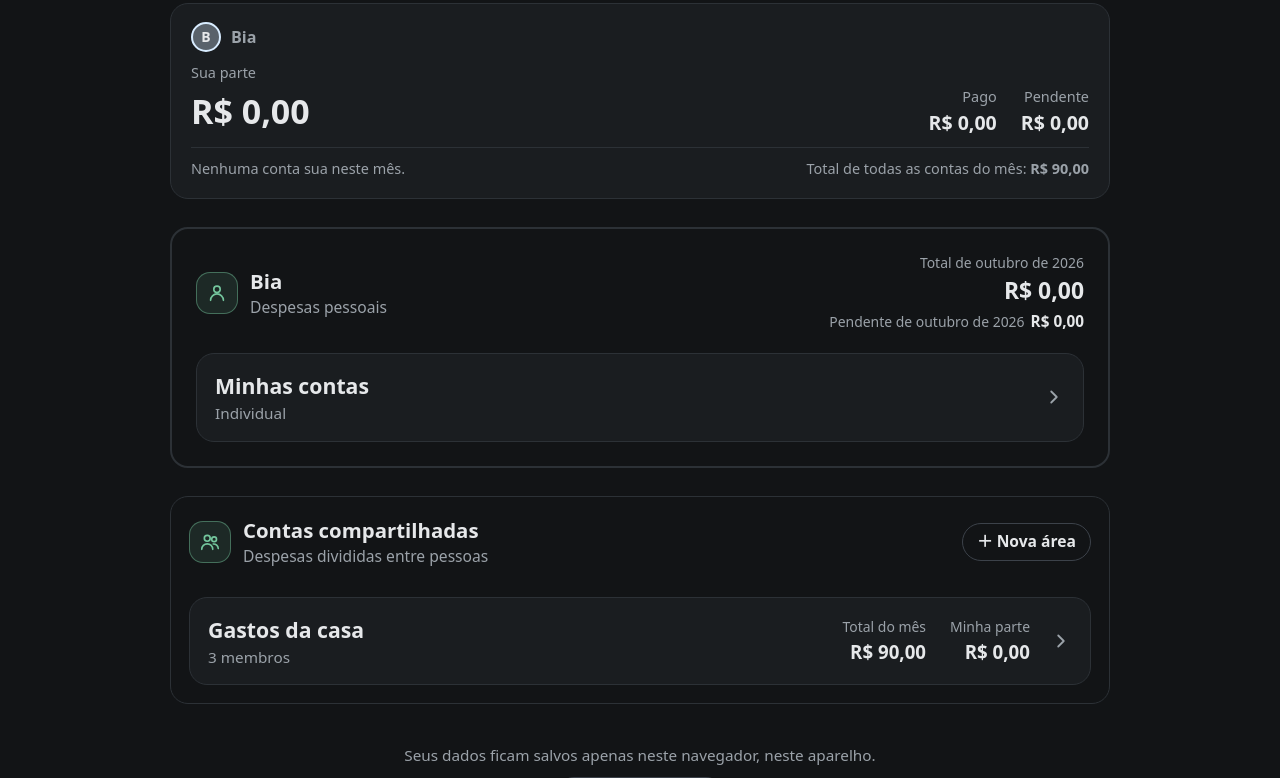
Test case: M6: base da nova versão em "esta e as seguintes" › conta escolhida paga e marcada: a confirmação diz que ela continua igual
The image size is (1280, 778).
Step 1. Click the button "Minhas contas Individual" → (292, 385), box left=197, top=354, right=1083, bottom=441
(page scrolled)
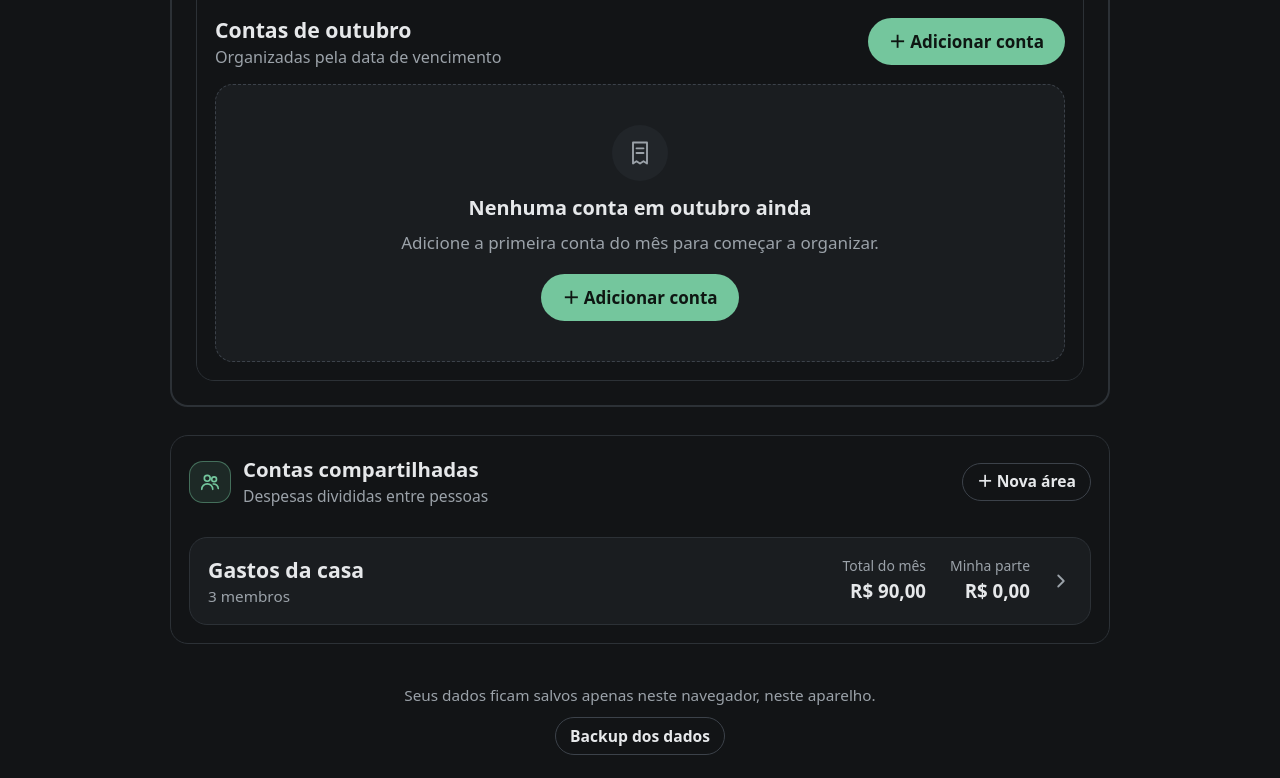
Step 2. Click the button that starts with "Gastos da casa" → (286, 569), box left=190, top=538, right=1090, bottom=624
(page scrolled)
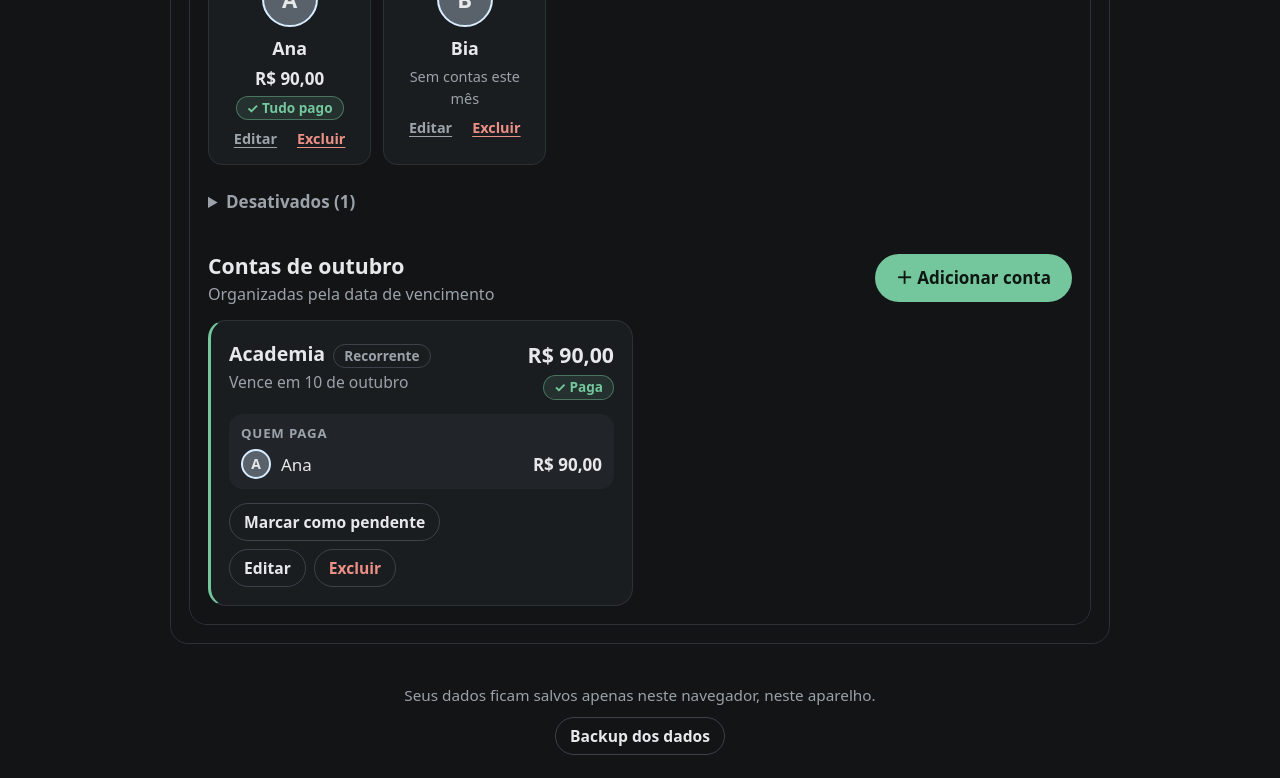
Step 3. Click the button with aria-label "Editar a conta Academia" → (267, 568), box left=229, top=549, right=306, bottom=587
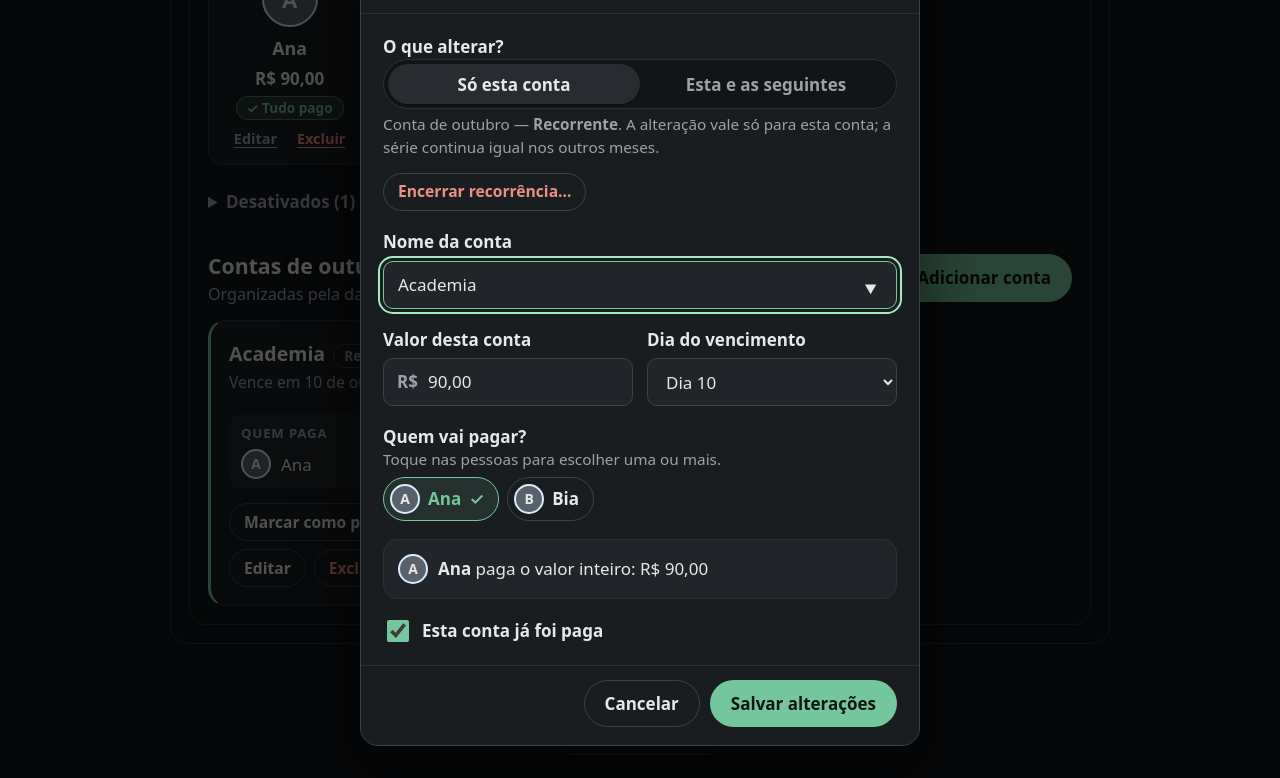
Step 4. Click the button "Esta e as seguintes" → (766, 84), box left=640, top=64, right=892, bottom=104
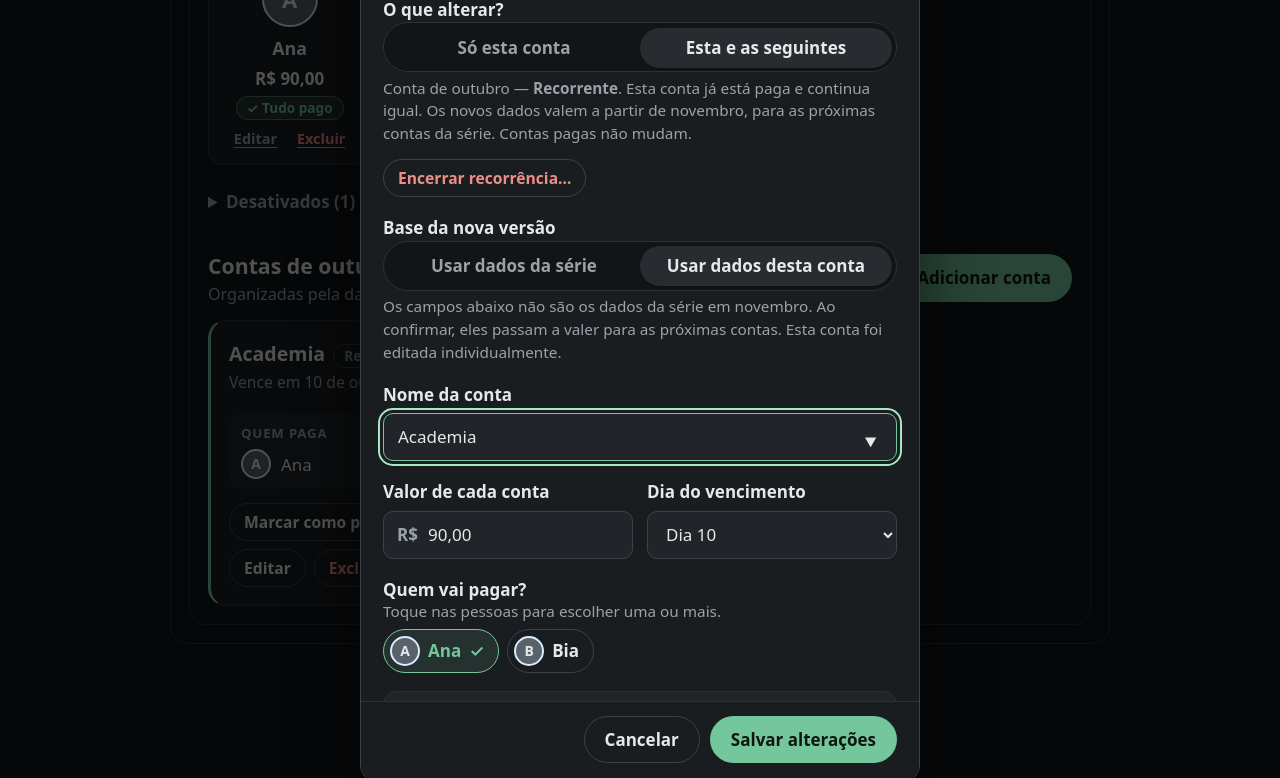
Step 5. Click the button "Salvar alterações" → (803, 740), box left=710, top=716, right=897, bottom=764
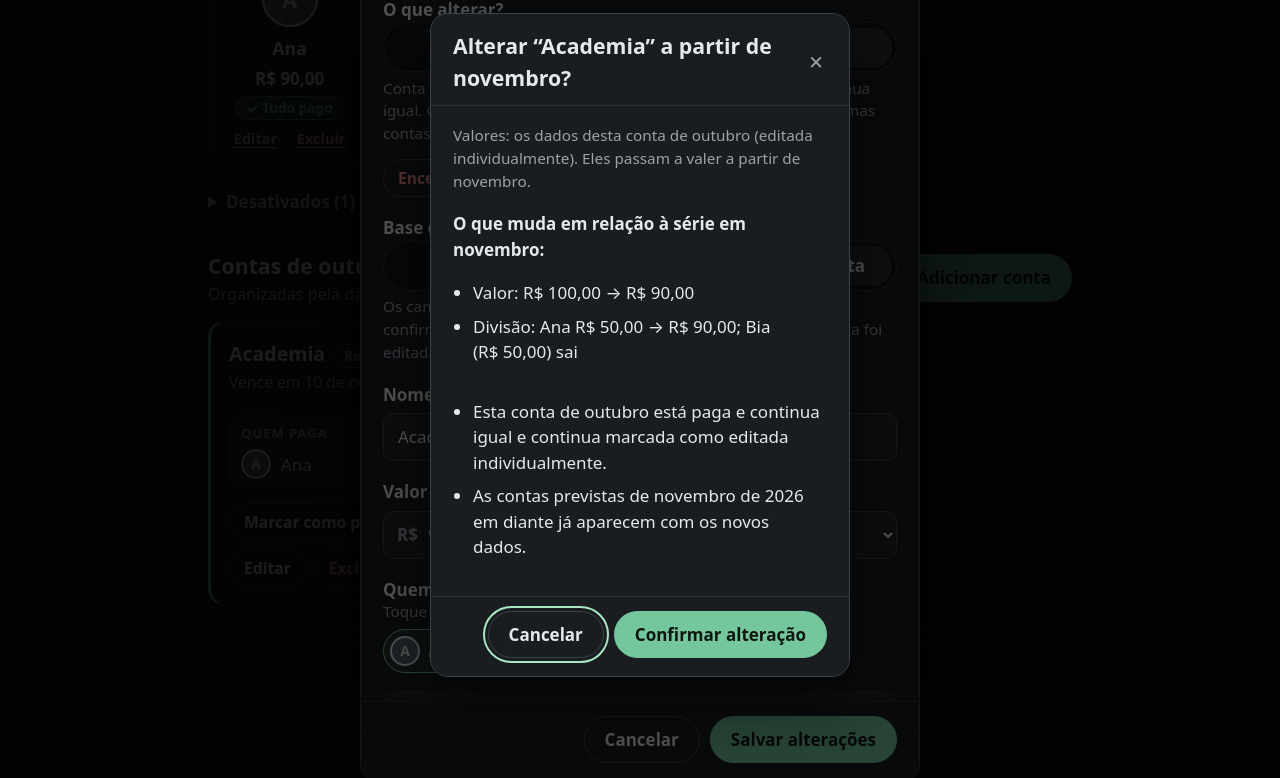
expect the list item "Esta conta de outubro está paga e continua igual e continua marcada como editada individualmente." is shown: met, box left=473, top=400, right=820, bottom=474
expect the heading "Alterar “Academia” a partir de novembro?" is shown: met, box left=453, top=30, right=799, bottom=94
